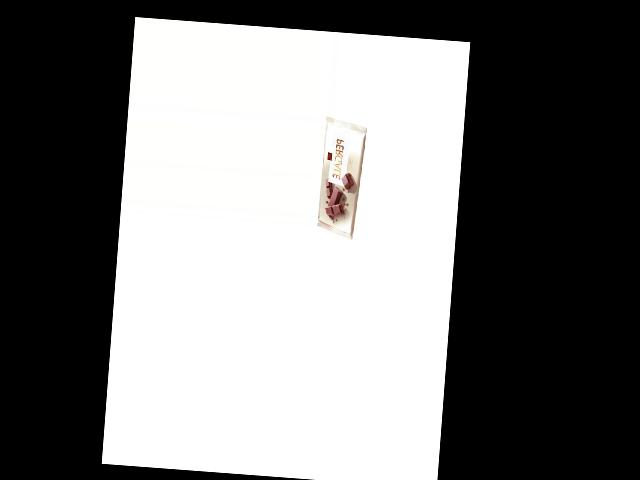chocolate: (316, 115, 366, 242)
